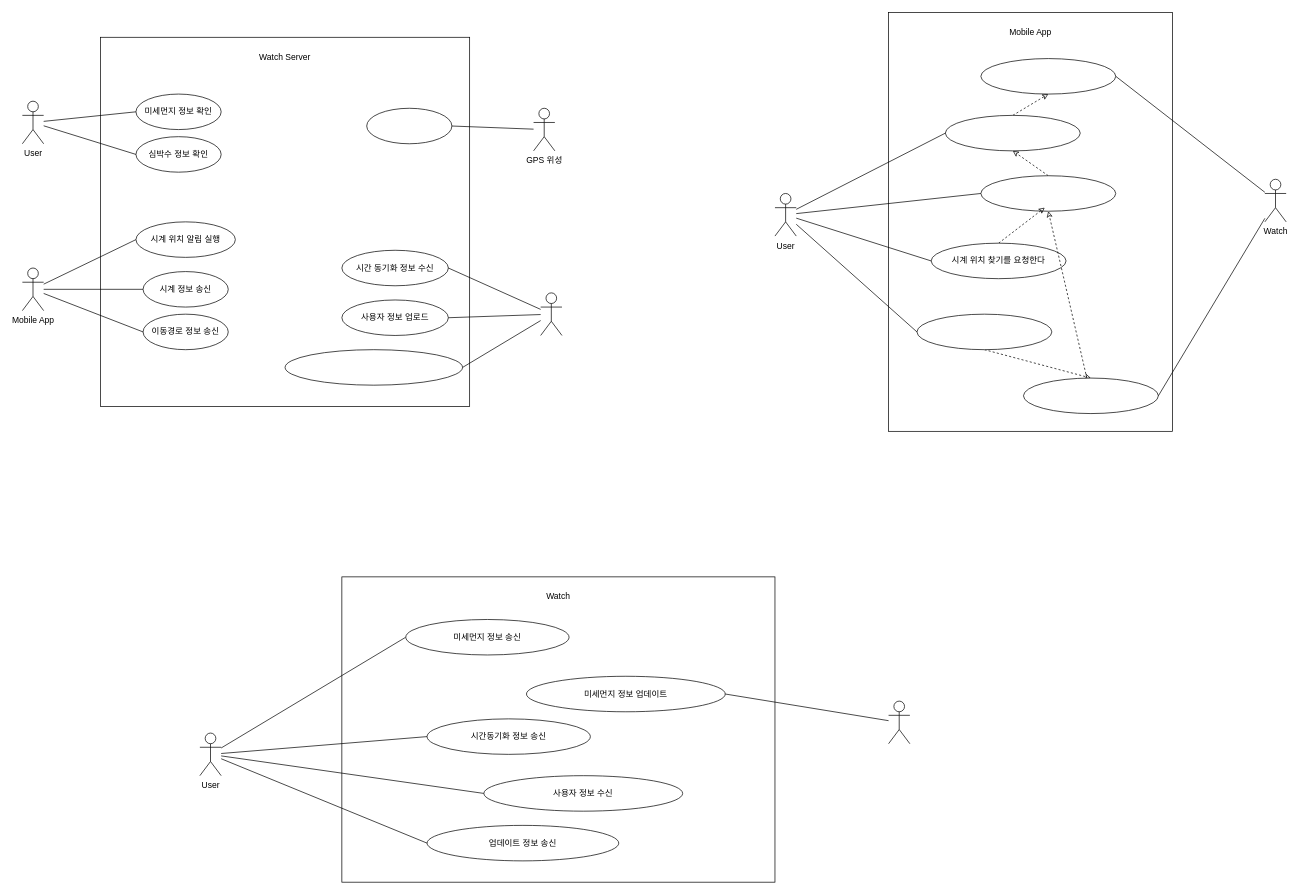
The diagram is 1300 pixels wide and 895 high, and some of its shapes have lost their labels. Each missing label, with the centre of its shape:
"GPS 정보 수신" belongs at [409,126].
"Server" belongs at [551,313].
"기상청 서버" belongs at [899,722].
"시계를 등록한다" belongs at [1048,193].
"시계정보 리스트를 보여준다" belongs at [1012,133].
"시계정보를 요청" belongs at [1048,76].
"이동 경로 정보 수신" belongs at [1090,395].
"이동 경로 정보 확인" belongs at [984,331].
"자가 업데이트 정보 다운로드" belongs at [373,367].
